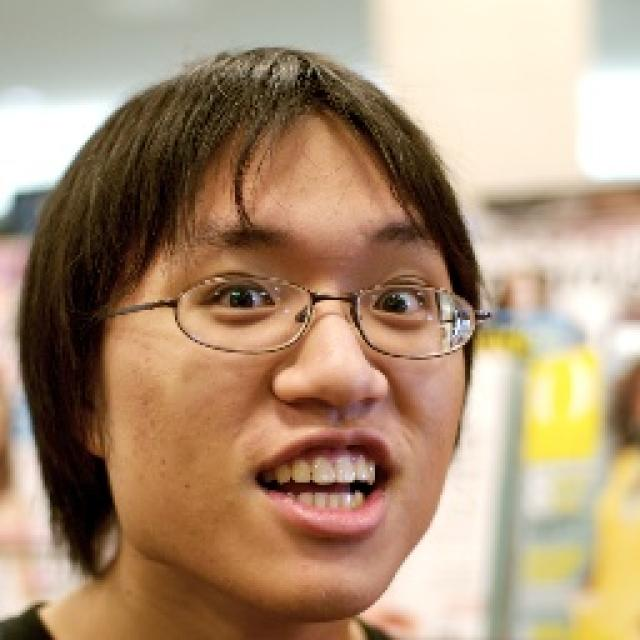earlobe: (72, 404, 106, 459)
eye: (208, 280, 276, 314), (375, 285, 430, 317)
nose: (283, 399, 390, 423)
